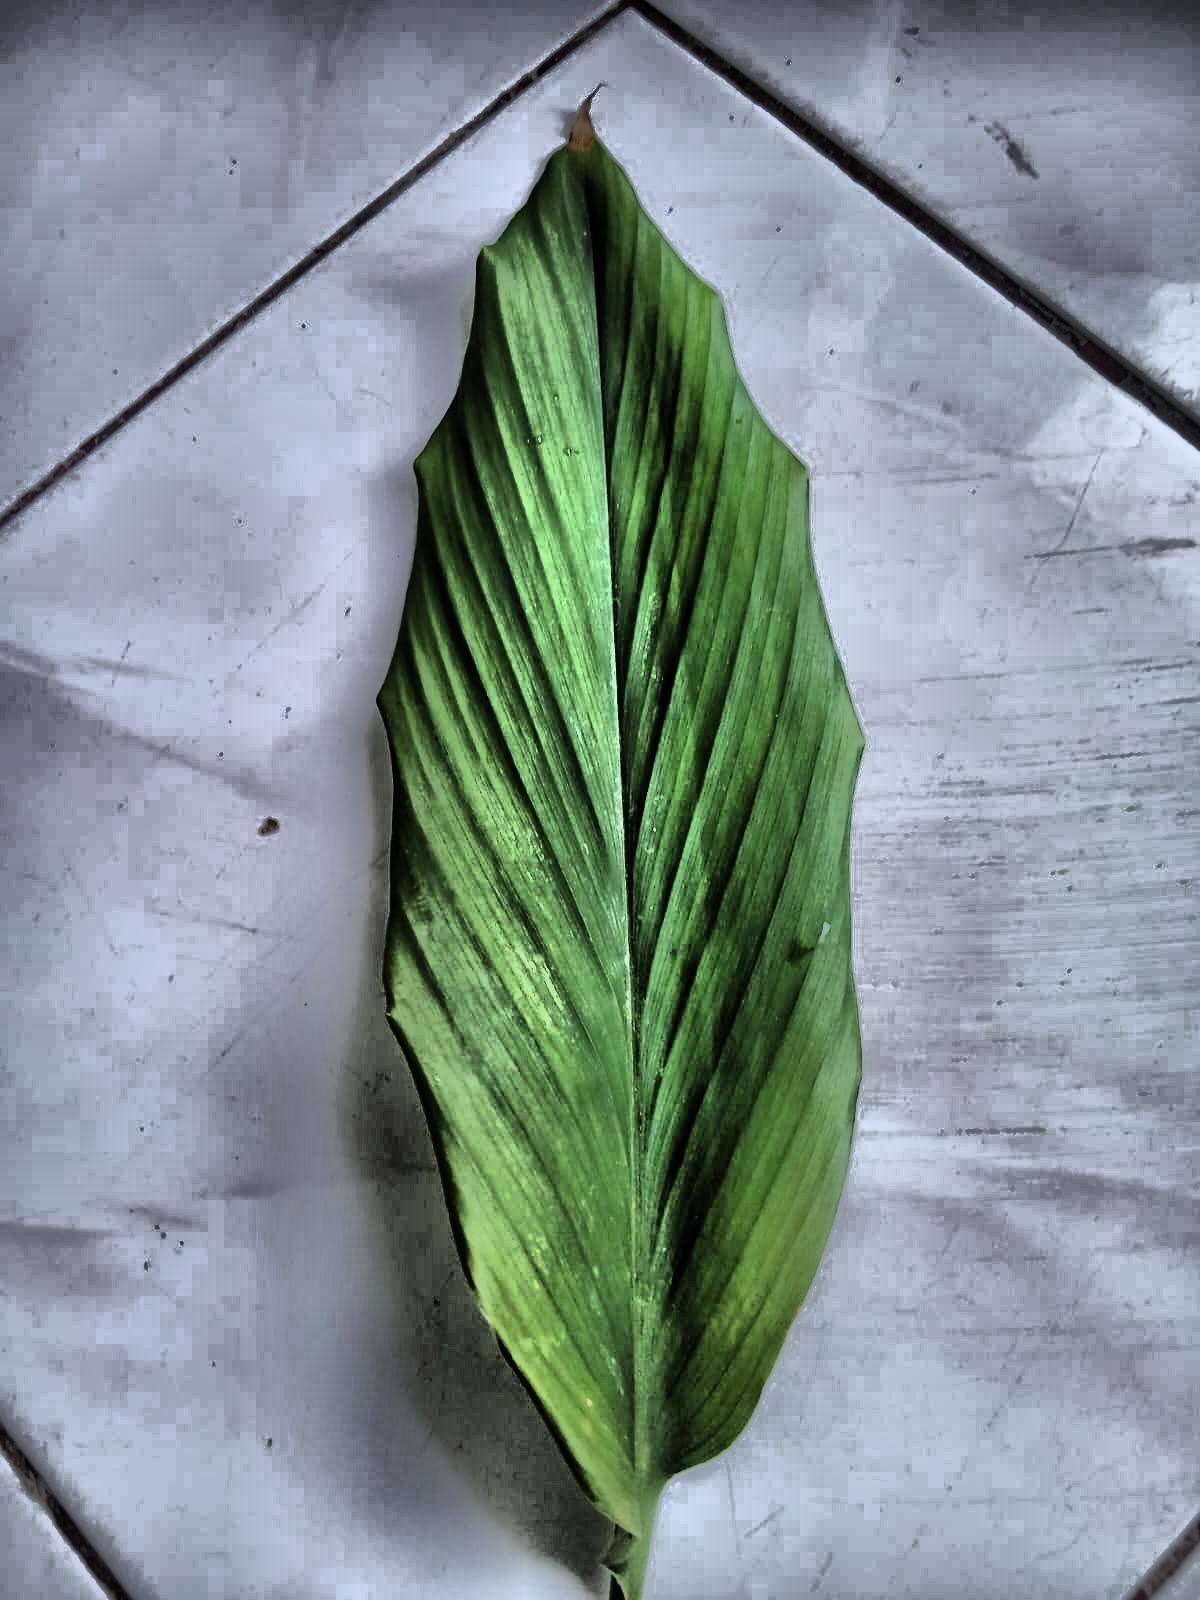daun kunyit: (378, 117, 863, 1599)
